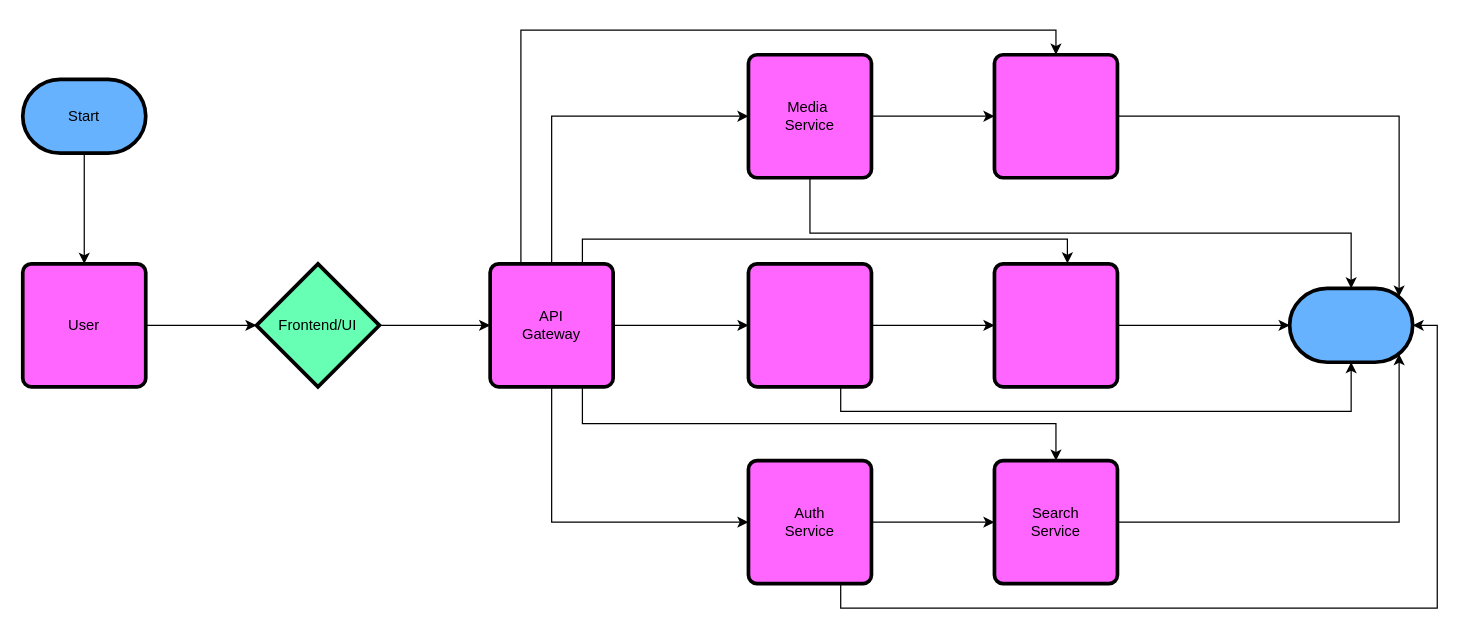
The diagram is 1469 pixels wide and 640 high, and some of its shapes have lost their labels. The shapes that lost their labels are listed below. From the top down, each one's box as (x1, y1, x2, y2) in pixels, then its label:
(992, 52, 1119, 179): Storage Service
(746, 261, 873, 388): Message Service
(992, 261, 1119, 388): Group Service
(1287, 286, 1414, 363): End
